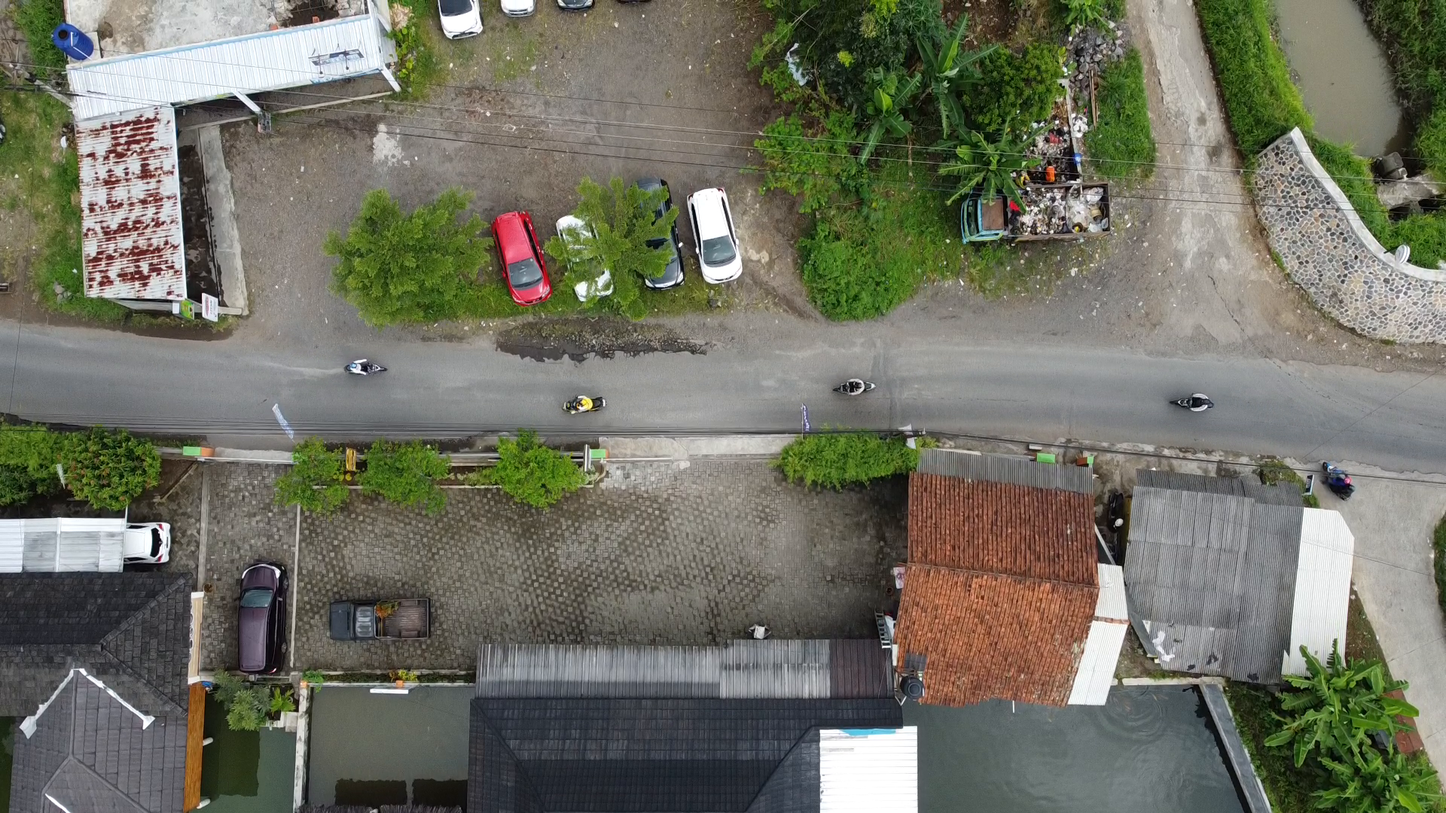mobil: (629, 166, 694, 297), (233, 559, 297, 687), (679, 182, 752, 294), (321, 586, 439, 653), (545, 211, 623, 308), (482, 207, 555, 309), (121, 519, 185, 567)
